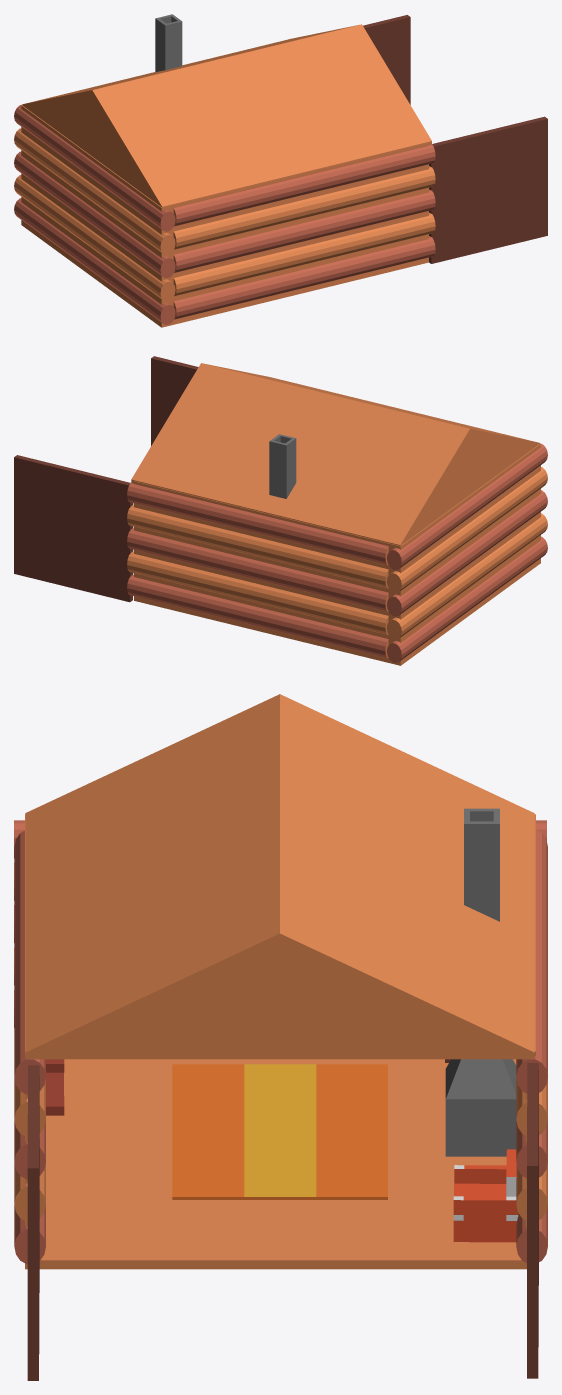
The model's file is home1.fbx.
3 views of the same model, one above another, from view 1: azimuth 30°, elevation 25°; view 2: azimuth 150°, elevation 25°; view 3: azimuth 270°, elevation 25° (orthographic). The views are drawn at different scales.
Parts seen in each view (by area): view 1: Cylinder; view 2: Cylinder; view 3: Cylinder.
Part boxes in pixels (x1=…): Cylinder: x1=14, y1=14, x2=547, y2=327; Cylinder: x1=14, y1=356, x2=547, y2=665; Cylinder: x1=14, y1=694, x2=547, y2=1380.
Size of the model in its own units: 5180 by 2394 by 3367.
